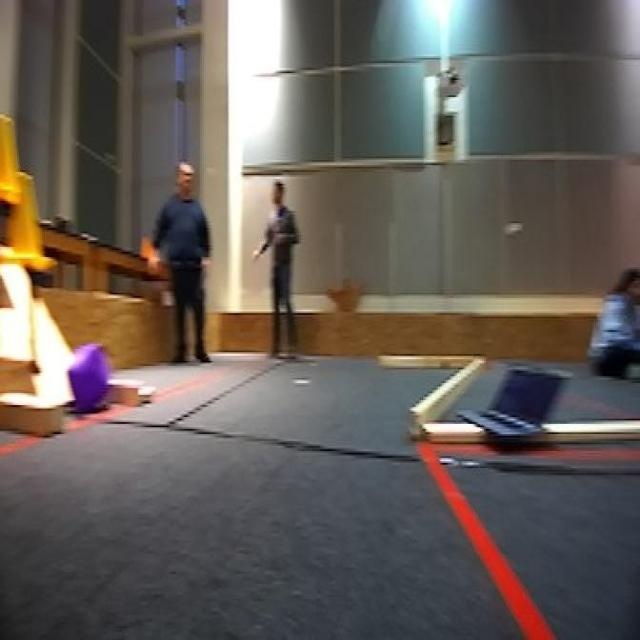frc_cone: (13, 168, 52, 269), (0, 114, 24, 204)
frc_cube: (66, 344, 112, 412)
